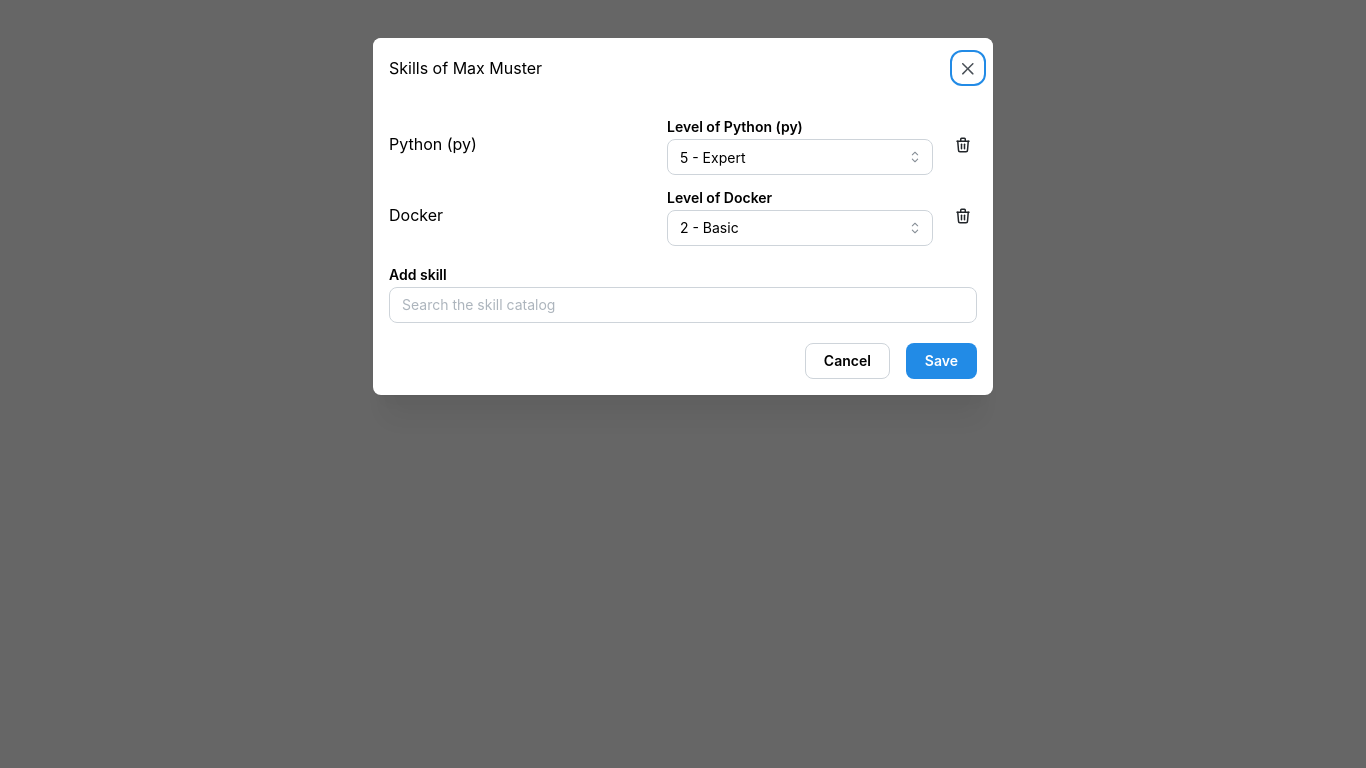
SkillsDialog › keeps assigned skills out of the picker
Click the field labelled "Add skill": point(683, 305) x1=389 y1=287 x2=977 y2=323
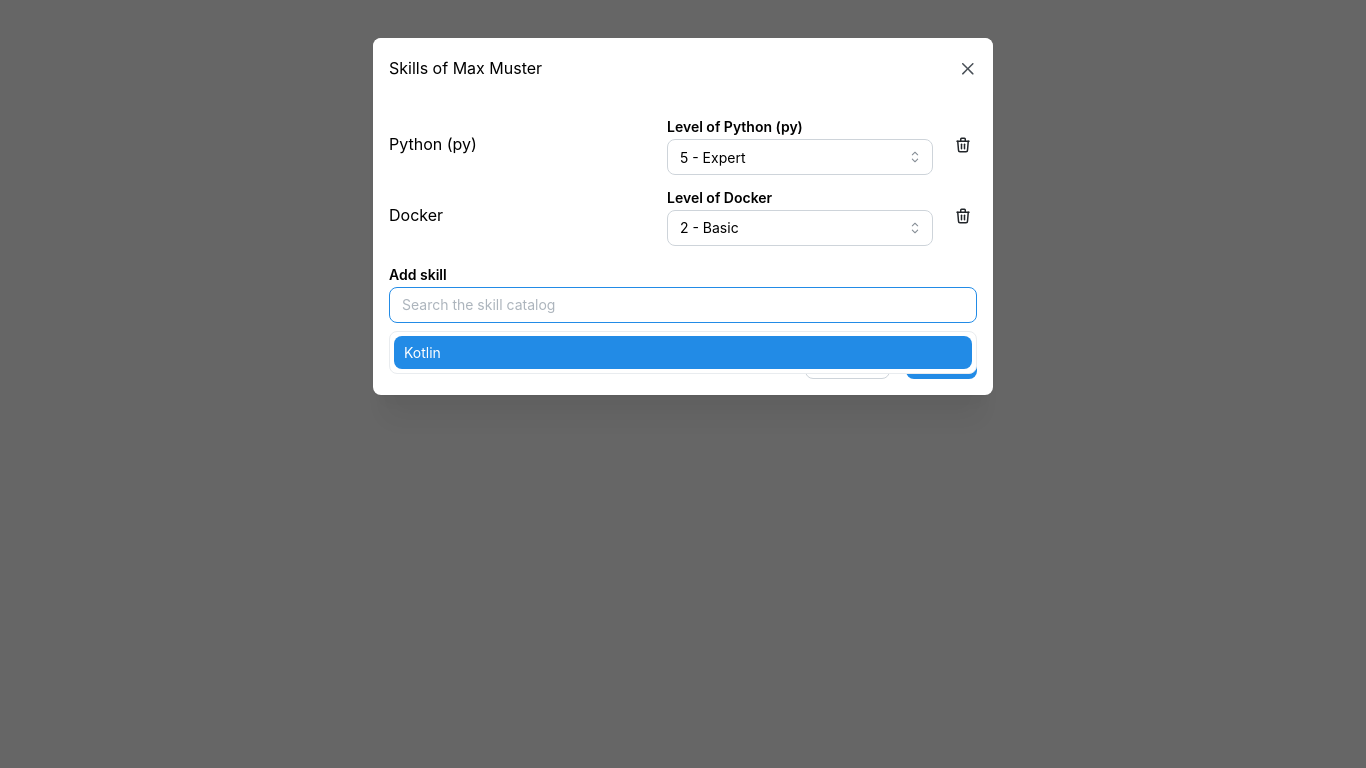
Check: the option "Kotlin" is shown, box x1=394 y1=336 x2=972 y2=370
